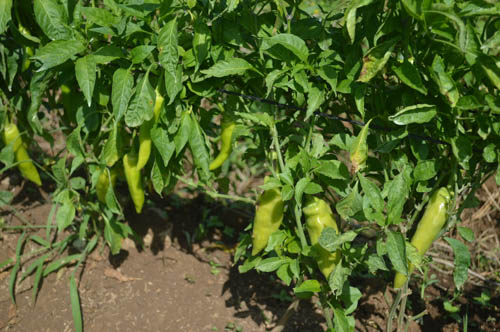ChiliPepper: (391, 187, 450, 294), (303, 198, 346, 291), (251, 190, 286, 259), (3, 125, 41, 186), (135, 95, 165, 170), (207, 122, 236, 179), (125, 154, 144, 215), (97, 166, 120, 210)
